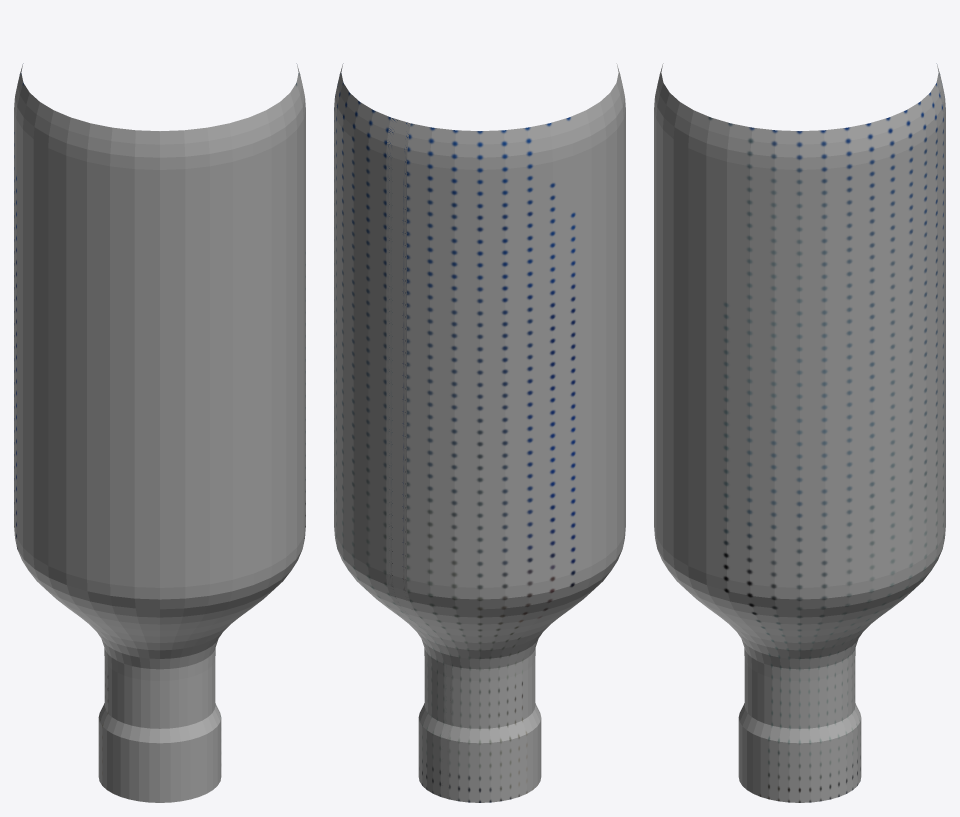
The model's file is reconstructed_model.glb.
3 views of the same model, side by side, from view 1: azimuth 30°, elevation 25°; view 2: azimuth 150°, elevation 25°; view 3: azimuth 270°, elevation 25° (orthographic).
Visible parts, largest first — view 1: geometry_0; view 2: geometry_0; view 3: geometry_0.
Boxes of the visible parts, bbox=[...] form: geometry_0: bbox=[14, 63, 305, 802]; geometry_0: bbox=[334, 63, 625, 802]; geometry_0: bbox=[654, 63, 945, 802].
Size of the model in its own units: 2.59 by 6.9 by 2.59.
Materials: 1 (1 with a texture image).
